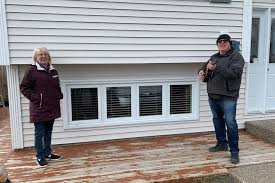Good: (19, 34, 247, 167)
